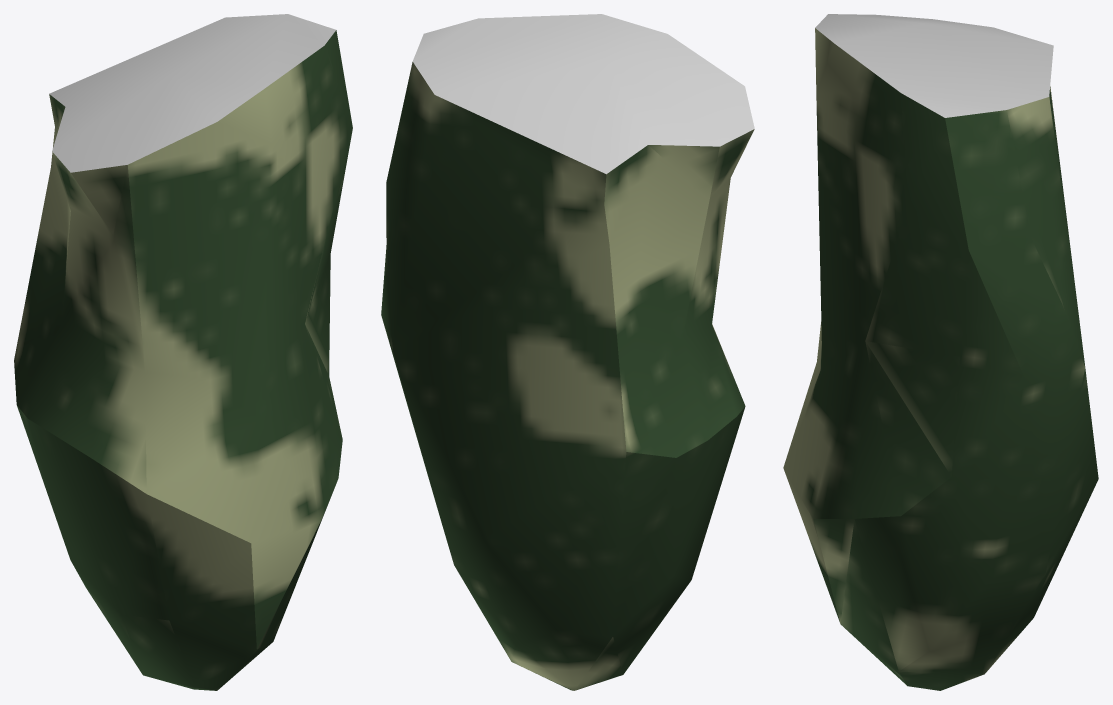
The model's file is link_leg_0_R_1.obj.
3 renders of one model, left to right at view 1: azimuth 30°, elevation 25°; view 2: azimuth 150°, elevation 25°; view 3: azimuth 270°, elevation 25°, orthographic. The views are drawn at different scales.
Parts seen in each view (by area): view 1: link_leg_0_R_1; view 2: link_leg_0_R_1; view 3: link_leg_0_R_1.
Part boxes in pixels (x1,y1,x2,y2): link_leg_0_R_1: [14, 14, 352, 690]; link_leg_0_R_1: [381, 14, 754, 690]; link_leg_0_R_1: [783, 14, 1098, 690].
Bounding box in the file's own units: 4.37 × 8.35 × 3.63.
